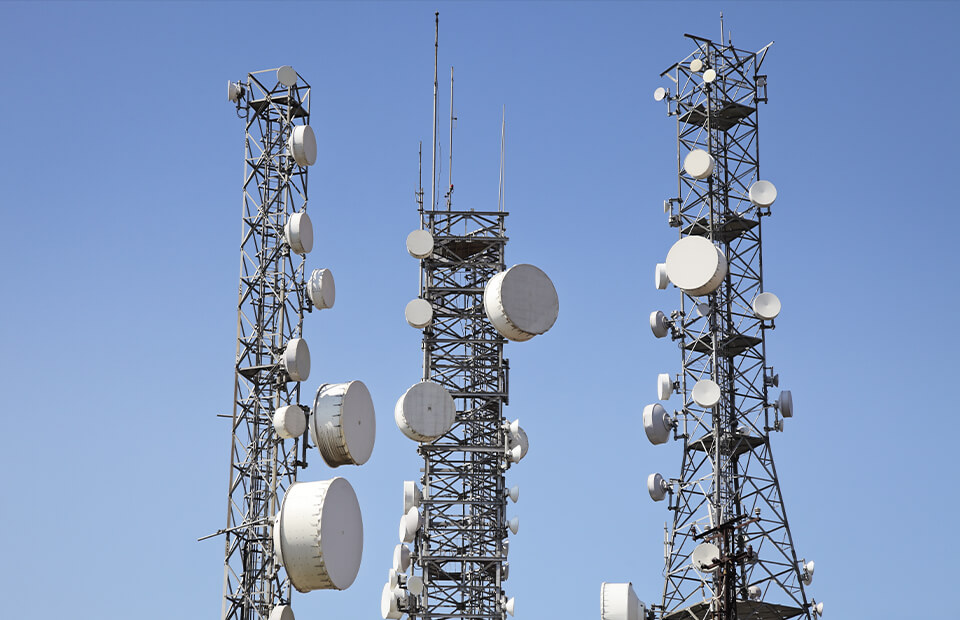ba: (274, 472, 369, 601), (301, 359, 376, 477), (485, 254, 563, 364), (657, 233, 729, 306), (395, 365, 457, 447), (769, 378, 807, 435), (640, 399, 675, 453), (280, 124, 320, 168), (674, 145, 721, 180), (636, 469, 671, 507), (792, 549, 815, 582)
